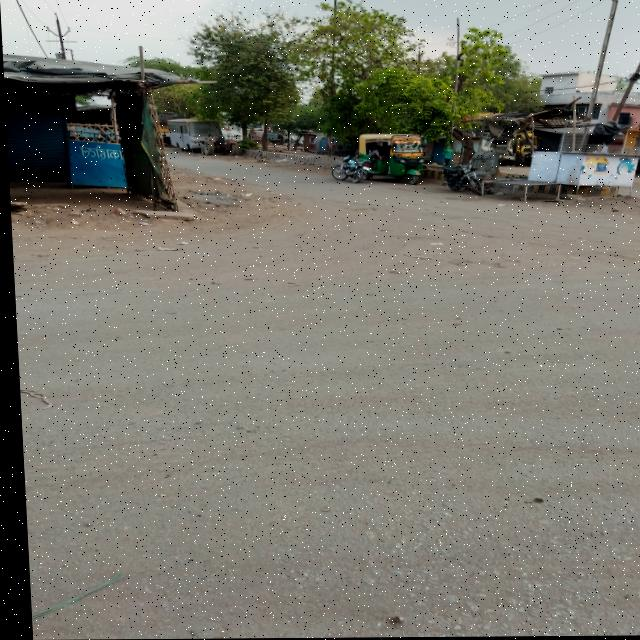plate: (462, 172, 473, 178), (361, 167, 368, 171), (408, 155, 414, 159)
